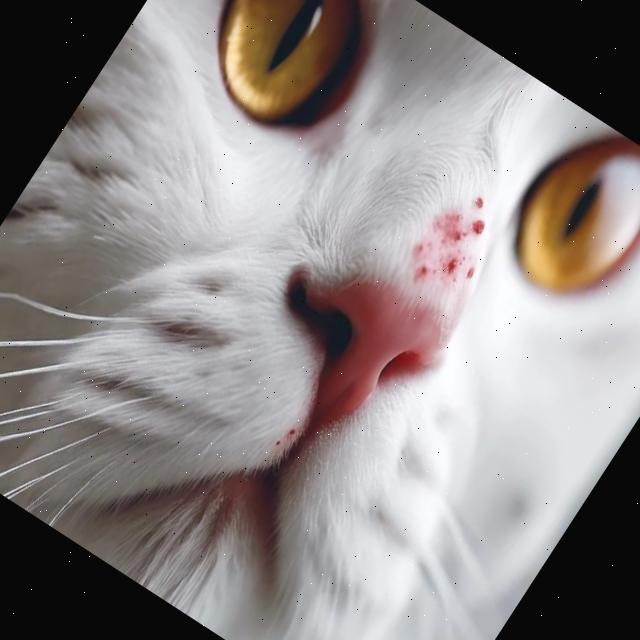cat-acne: (417, 198, 478, 260), (436, 250, 464, 284), (466, 215, 491, 240), (458, 260, 482, 286), (411, 261, 434, 285), (408, 238, 431, 261), (469, 192, 490, 214)
